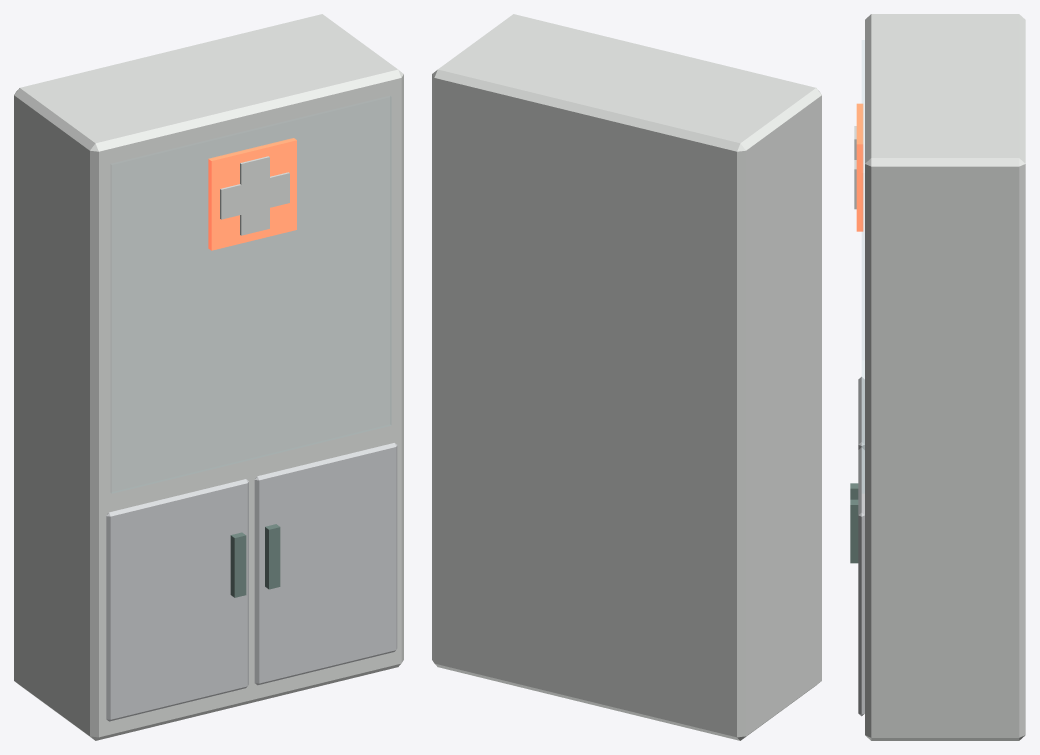
The model's file is hs_cabinet.glb.
3 renders of one model, left to right at view 1: azimuth 30°, elevation 25°; view 2: azimuth 150°, elevation 25°; view 3: azimuth 270°, elevation 25°, orthographic. The views are drawn at different scales.
Visible parts, largest first — view 1: hs_cabinet; view 2: hs_cabinet; view 3: hs_cabinet.
Boxes of the visible parts, left/top/right/bottom form: hs_cabinet: left=14, top=14, right=403, bottom=740; hs_cabinet: left=432, top=14, right=821, bottom=740; hs_cabinet: left=850, top=14, right=1025, bottom=740.
Size of the model in its own units: 1.1 by 2 by 0.545.
